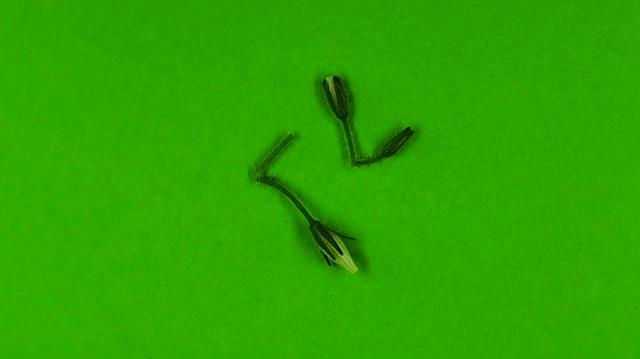Flower Bud: (310, 221, 359, 275), (374, 126, 415, 162), (322, 75, 351, 118)
